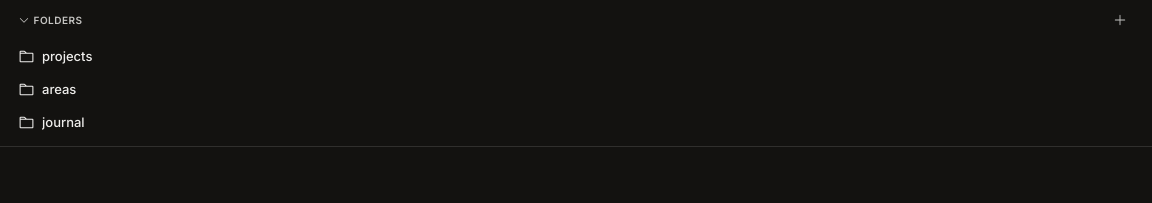
FolderTree › opens the create-folder input from the header action
Click the button with test id "create-folder-btn" at (1120, 20), box [1108,8,1132,32]
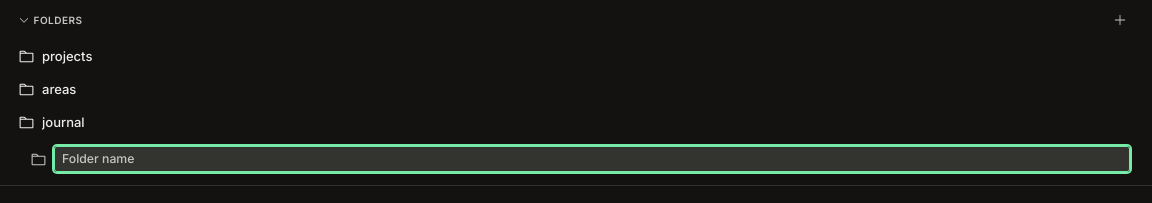
Result: the field with test id "new-folder-input" is shown at [54,146,1130,172]
